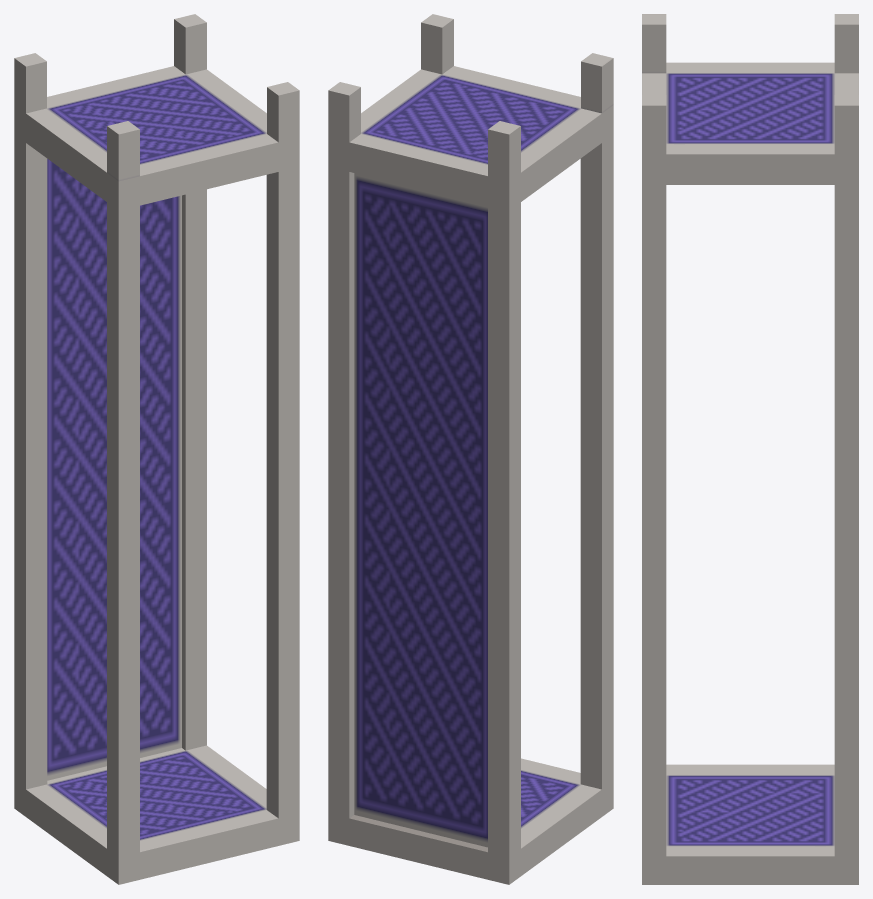
The model's file is Elevator.fbx.
3 renders of one model, left to right at view 1: azimuth 30°, elevation 25°; view 2: azimuth 150°, elevation 25°; view 3: azimuth 270°, elevation 25°, orthographic. The views are drawn at different scales.
Parts seen in each view (by area): view 1: Elevator; view 2: Elevator; view 3: Elevator.
Part boxes in pixels (x1,y1,x2,y2): Elevator: (14,14,299,884); Elevator: (328,14,613,884); Elevator: (642,14,858,884).
Size of the model in its own units: 308 by 1221 by 308.
Materials: 1 (1 with a texture image).
